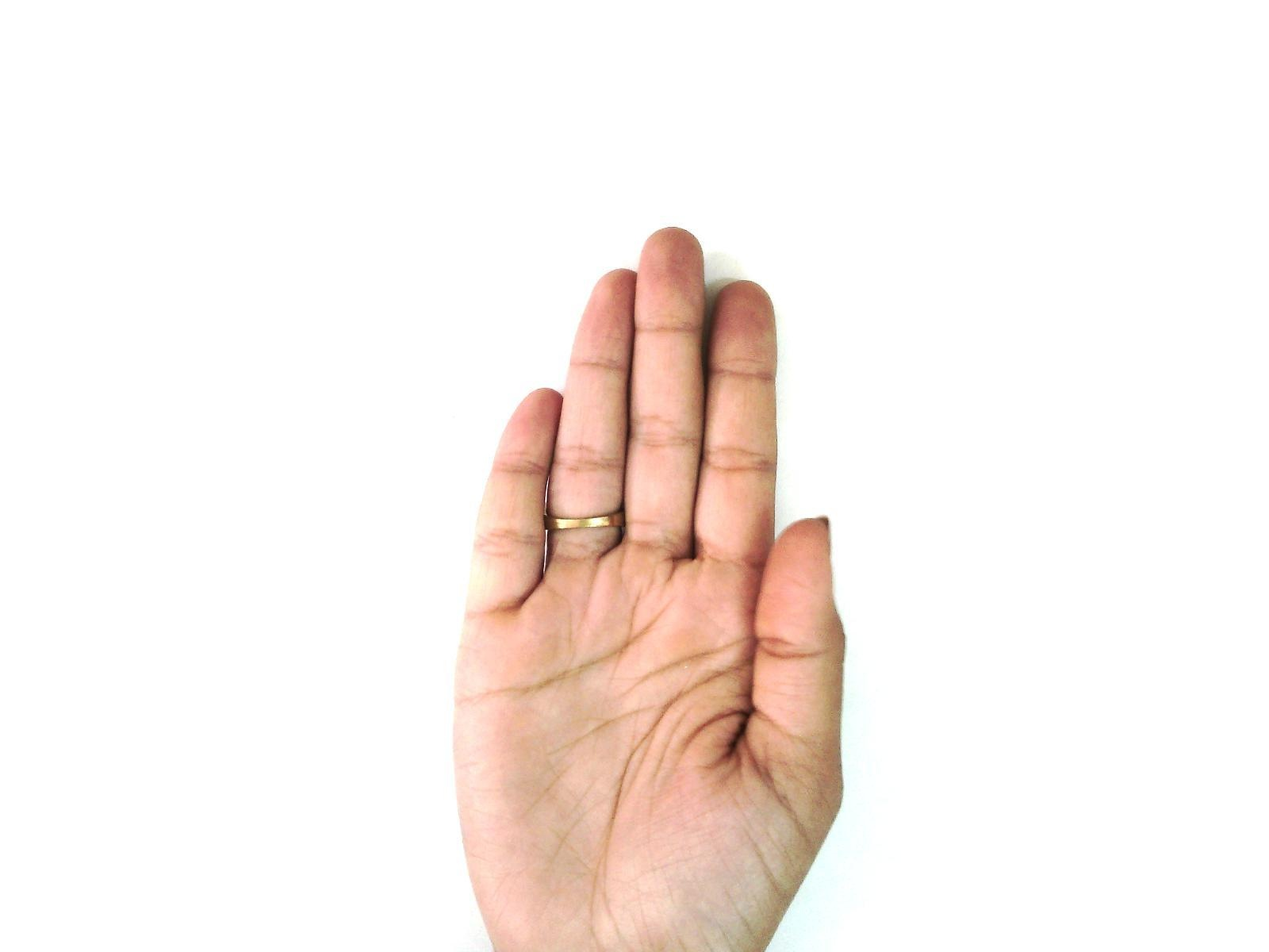open_palm: (449, 226, 850, 951)
